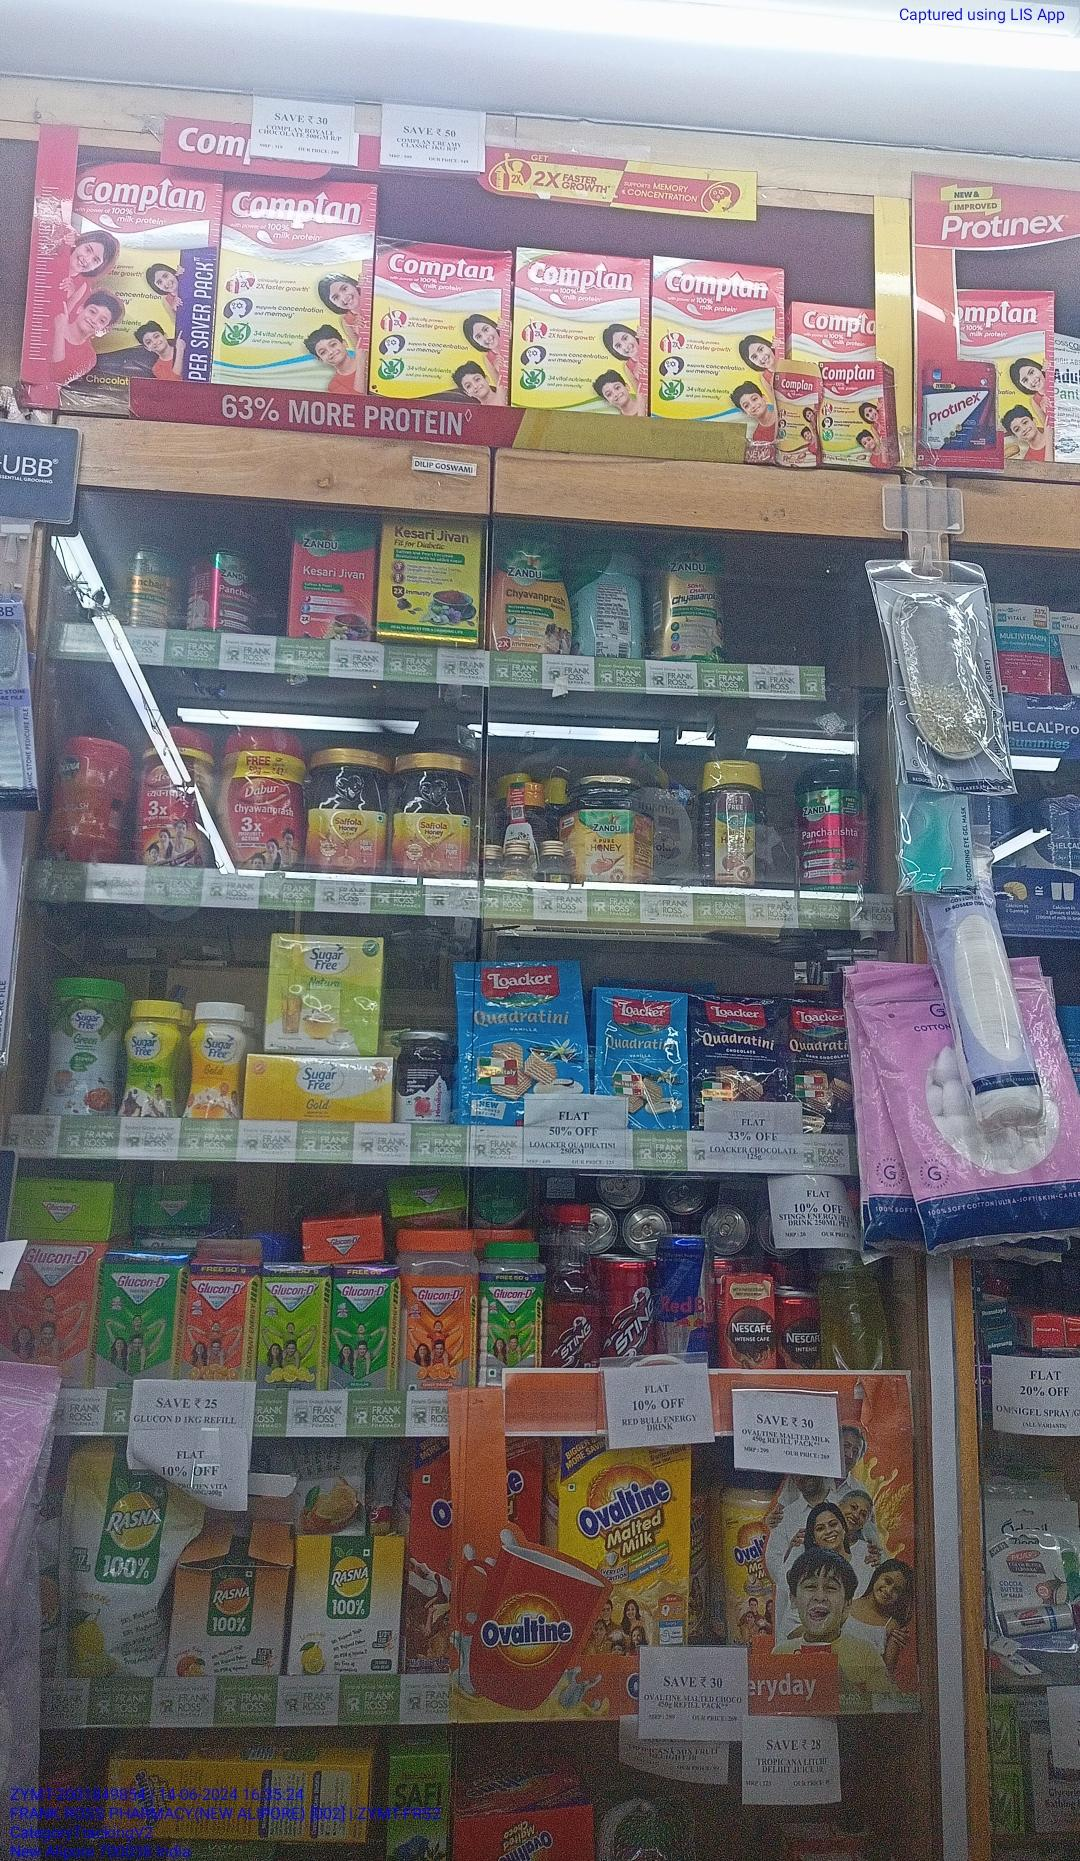COMPLAN_CHOCOLATE_1_KG_PACK: (78, 161, 217, 383)
COMPLAN_CHOCOLATE_200_GMS_PACK: (373, 238, 512, 404)
COMPLAN_CREAMY_CLASSIC_500_G_PACK: (651, 256, 783, 423)
COMPLAN_KESAR_BADAM_500_GMS_PACK: (514, 245, 652, 414)
